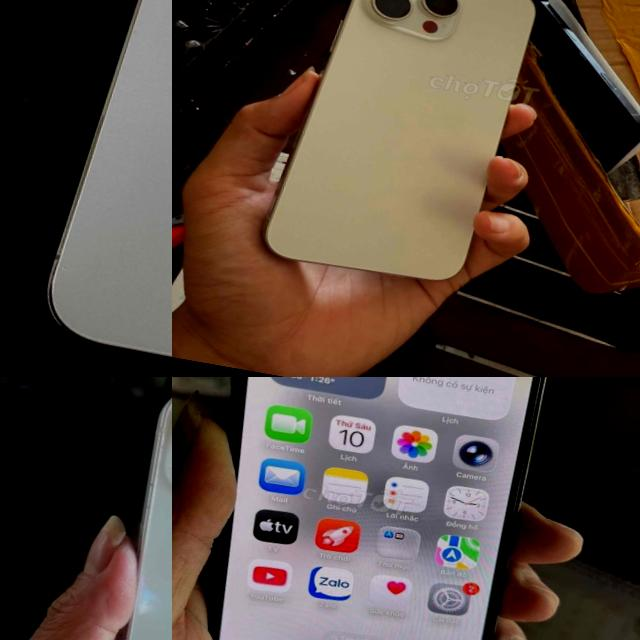gen_12_13: (172, 377, 581, 640), (41, 0, 172, 377)
gen_15: (260, 0, 546, 294), (53, 377, 172, 640)
